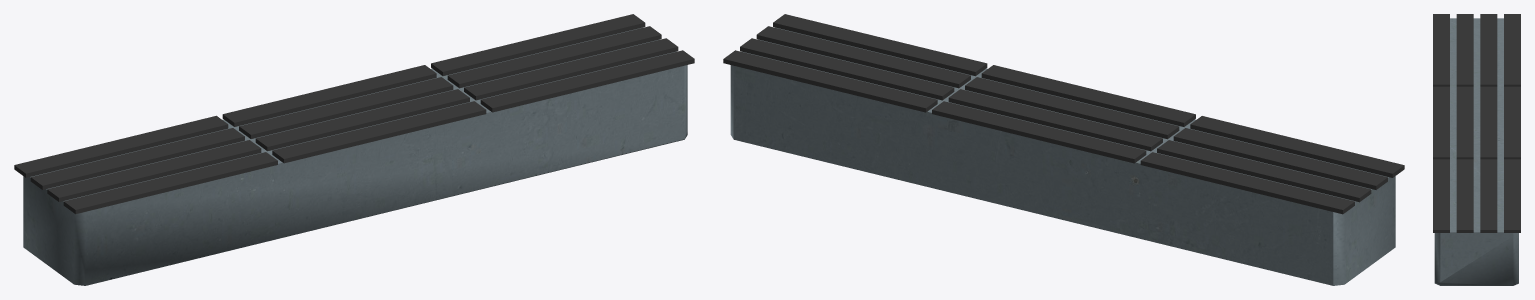
Rendered from Bench.FBX.
3 renders of one model, left to right at view 1: azimuth 30°, elevation 25°; view 2: azimuth 150°, elevation 25°; view 3: azimuth 270°, elevation 25°, orthographic. The views are drawn at different scales.
Visible parts, largest first — view 1: Bench; view 2: Bench; view 3: Bench.
Boxes of the visible parts, <box> form: Bench: <box>14,14,694,285</box>; Bench: <box>723,14,1404,285</box>; Bench: <box>1433,14,1520,285</box>.
Size of the model in its own units: 606 by 104 by 74.25.
